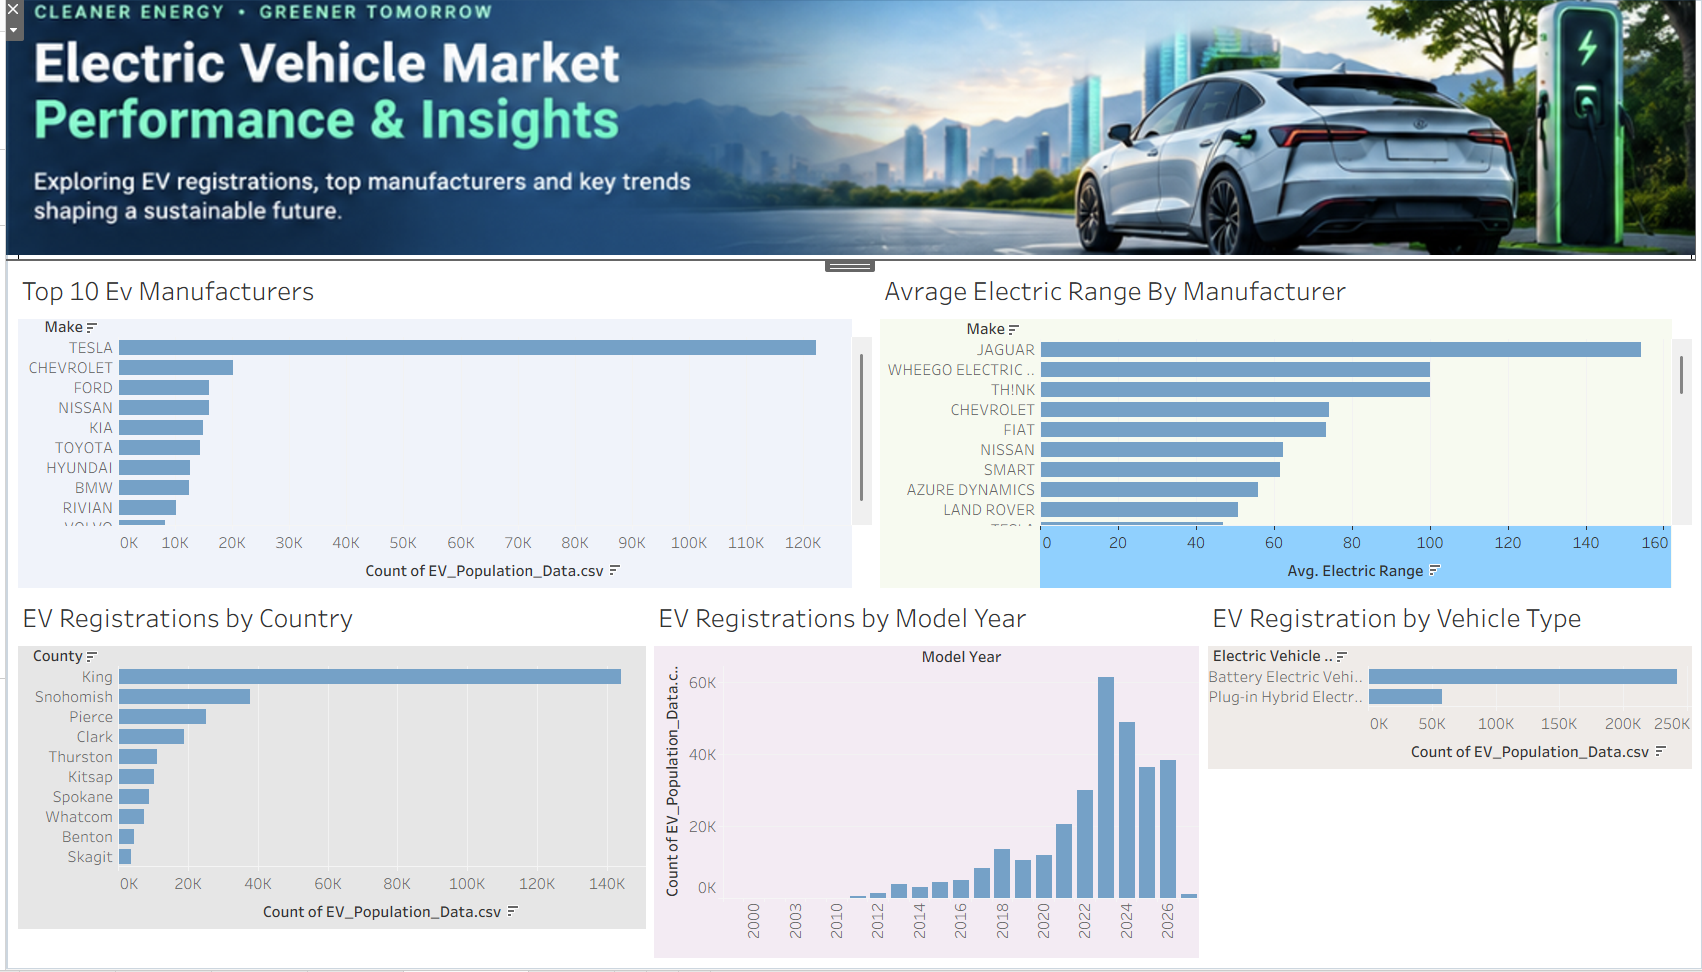

Layout of this report page (visuals, bound fields, positions):
{"tool":"tableau","page":{"name":"Dashboard 1","canvas":[1000,1000],"units":"permille","ordinal":0},"visuals":[{"type":"title","box":[4.7,8.2,990.6,265.7]},{"type":"worksheet","title":"Sheet 1 (2)","mark":"Automatic","rows":["Make"],"cols":["EV_Population_Data.csv_FF7F3F366DF445D3B39A93D9E798585B"],"box":[4.7,273.9,507.6,336.8]},{"type":"worksheet","title":"Sheet 1 (4)","mark":"Automatic","rows":["Make"],"cols":["Electric Range"],"box":[512.4,273.9,482.9,336.8]},{"type":"worksheet","title":"Sheet 1 (5)","mark":"Automatic","rows":["County"],"cols":["EV_Population_Data.csv_FF7F3F366DF445D3B39A93D9E798585B"],"box":[4.7,610.8,374.8,381]},{"type":"worksheet","title":"Sheet 1 (3)","mark":"Automatic","rows":["EV_Population_Data.csv_FF7F3F366DF445D3B39A93D9E798585B"],"cols":["Model Year"],"box":[379.5,610.8,325.9,381]},{"type":"worksheet","title":"Sheet 1","mark":"Automatic","rows":["Electric Vehicle Type"],"cols":["EV_Population_Data.csv_FF7F3F366DF445D3B39A93D9E798585B"],"box":[705.5,610.8,289.8,381]}]}

Visuals, with their boxes on the dashboard's canvas, which has no fixed pixel size, in thousandths of its width and height (x1, y1, x2, y2). These are canvas units, not pixel positions in the 1702x972 screenshot, which may show the page scaled, cropped or inside an application window:
title: bbox=(5, 8, 995, 274)
"Sheet 1 (2)" worksheet: bbox=(5, 274, 512, 611)
"Sheet 1 (4)" worksheet: bbox=(512, 274, 995, 611)
"Sheet 1 (5)" worksheet: bbox=(5, 611, 380, 992)
"Sheet 1 (3)" worksheet: bbox=(380, 611, 705, 992)
"Sheet 1" worksheet: bbox=(706, 611, 995, 992)
